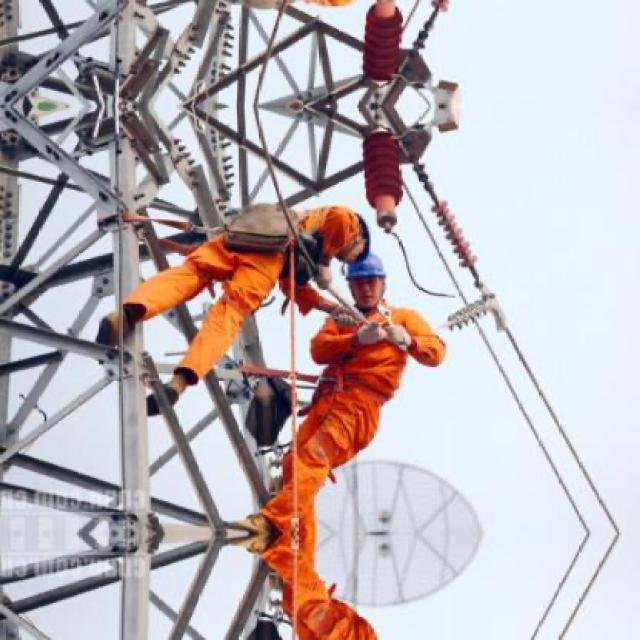con casco: (310, 246, 411, 326), (332, 203, 370, 283)
